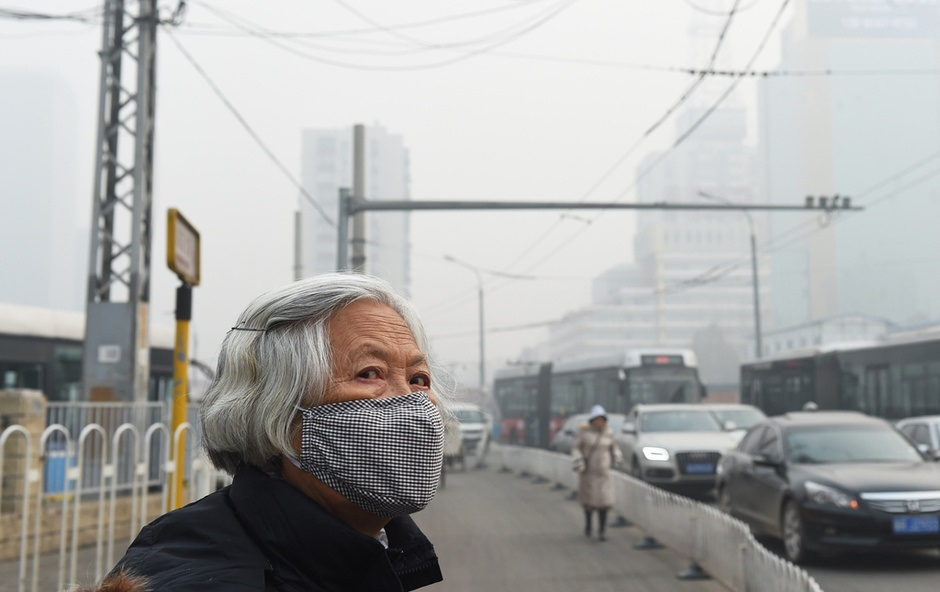face_mask: (299, 313, 444, 508)
